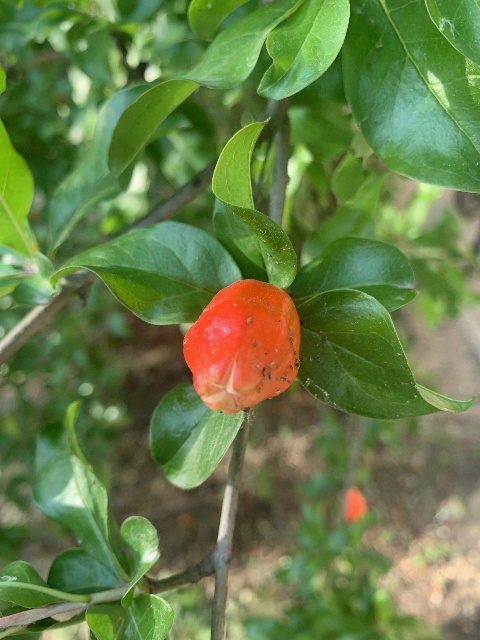bud: (182, 278, 300, 413)
